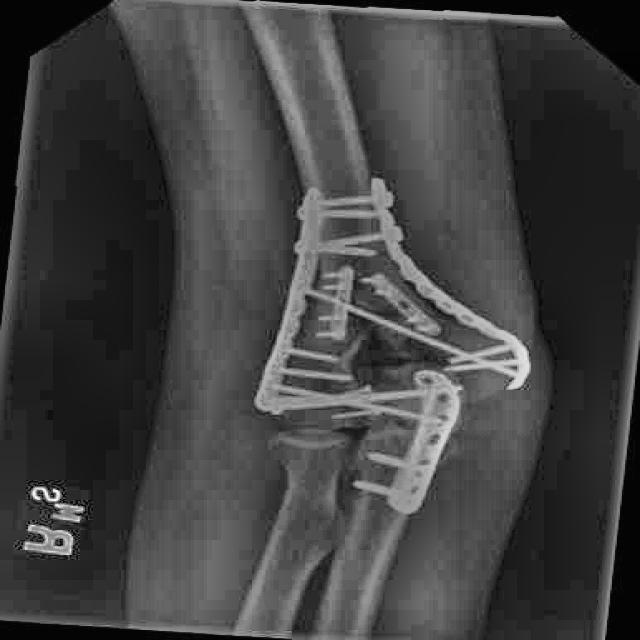elbow positive: (353, 311, 432, 381)
